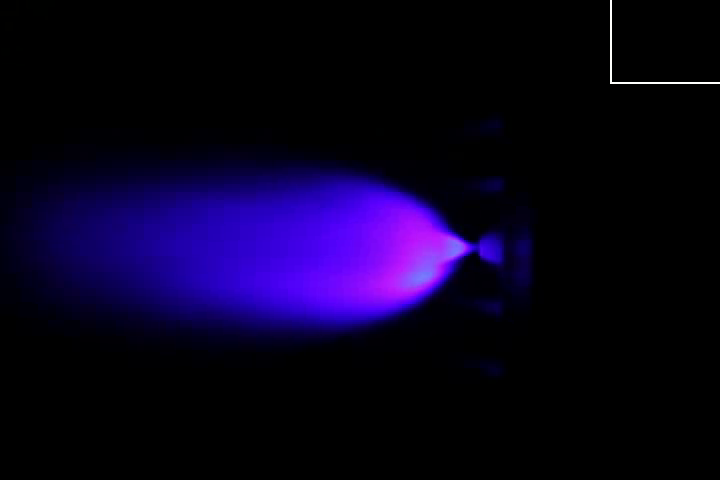burner cap: (477, 231, 507, 267)
stable: (337, 177, 476, 311)
